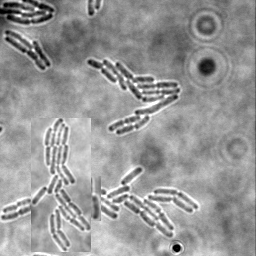Dividing: (1, 204, 31, 222), (3, 199, 31, 215)
Microcolony: (31, 118, 91, 252), (92, 167, 199, 238), (87, 59, 181, 136), (5, 30, 52, 72), (1, 1, 56, 26), (77, 176, 101, 221)
